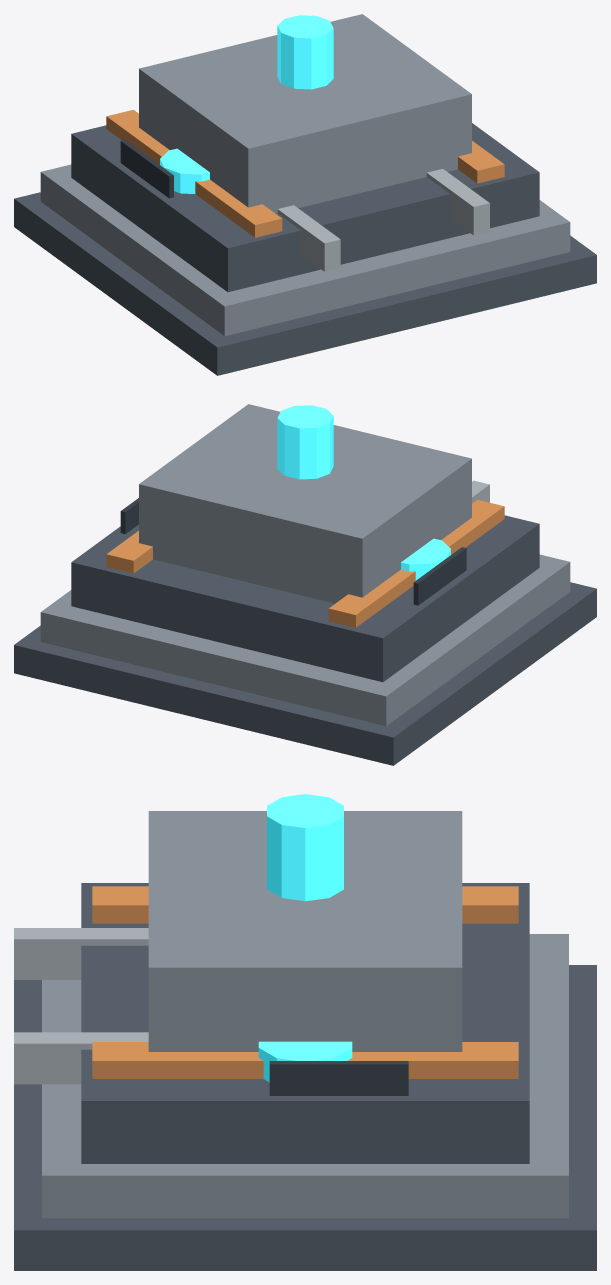
File: starport.glb
3 renders of one model, top to bottom at view 1: azimuth 30°, elevation 25°; view 2: azimuth 150°, elevation 25°; view 3: azimuth 270°, elevation 25°, orthographic. The views are drawn at different scales.
Visible parts, largest first — view 1: detail_003, detail_002, detail_000, detail_001, detail_008, detail_004, detail_010, detail_009, detail_013, detail_005, detail_006; view 2: detail_003, detail_002, detail_000, detail_001, detail_008, detail_004, detail_013, detail_006, detail_005, detail_016; view 3: detail_003, detail_002, detail_001, detail_000, detail_006, detail_008, detail_016, detail_009, detail_010, detail_004, detail_007.
Boxes of the visible parts, left/top/right/bottom form: detail_003: left=139, top=14, right=471, bottom=213; detail_002: left=71, top=123, right=539, bottom=292; detail_000: left=14, top=192, right=596, bottom=375; detail_001: left=40, top=164, right=570, bottom=336; detail_008: left=277, top=15, right=333, bottom=89; detail_004: left=106, top=109, right=282, bottom=237; detail_010: left=426, top=169, right=489, bottom=235; detail_009: left=277, top=205, right=340, bottom=271; detail_013: left=120, top=140, right=173, bottom=198; detail_005: left=160, top=148, right=209, bottom=193; detail_006: left=458, top=140, right=504, bottom=183; detail_003: left=139, top=404, right=471, bottom=603; detail_002: left=71, top=515, right=539, bottom=682; detail_000: left=14, top=582, right=596, bottom=765; detail_001: left=40, top=554, right=570, bottom=726; detail_008: left=277, top=405, right=333, bottom=479; detail_004: left=328, top=499, right=504, bottom=627; detail_013: left=413, top=547, right=466, bottom=605; detail_006: left=106, top=530, right=152, bottom=573; detail_005: left=401, top=538, right=450, bottom=580; detail_016: left=120, top=498, right=138, bottom=534; detail_003: left=148, top=811, right=462, bottom=1051; detail_002: left=81, top=883, right=529, bottom=1163; detail_001: left=42, top=934, right=568, bottom=1218; detail_000: left=14, top=965, right=596, bottom=1270; detail_006: left=92, top=1042, right=518, bottom=1078; detail_008: left=267, top=794, right=343, bottom=901; detail_016: left=269, top=1061, right=408, bottom=1095; detail_009: left=14, top=928, right=148, bottom=979; detail_010: left=14, top=1032, right=148, bottom=1084; detail_004: left=92, top=886, right=518, bottom=923; detail_007: left=258, top=1041, right=352, bottom=1082.
Size of the model in its own units: 2.8 by 1.61 by 2.6.
